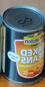beans: (3, 5, 44, 87)
